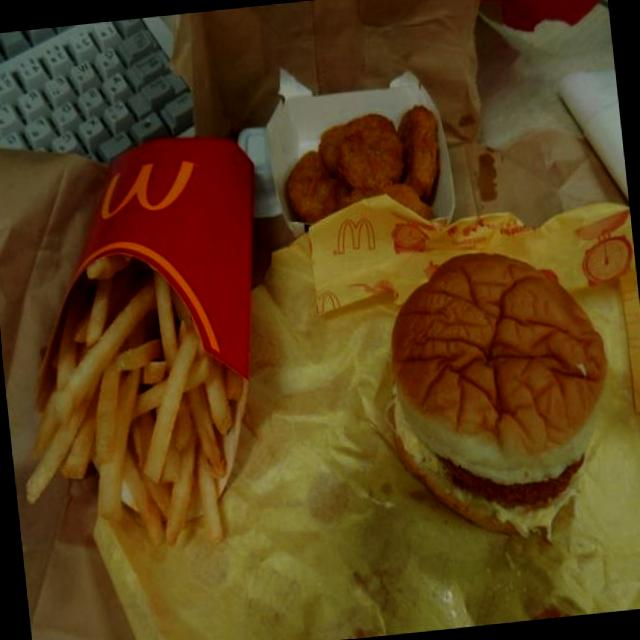French Fries: (0, 226, 259, 566)
Hamburger: (362, 225, 622, 552)
